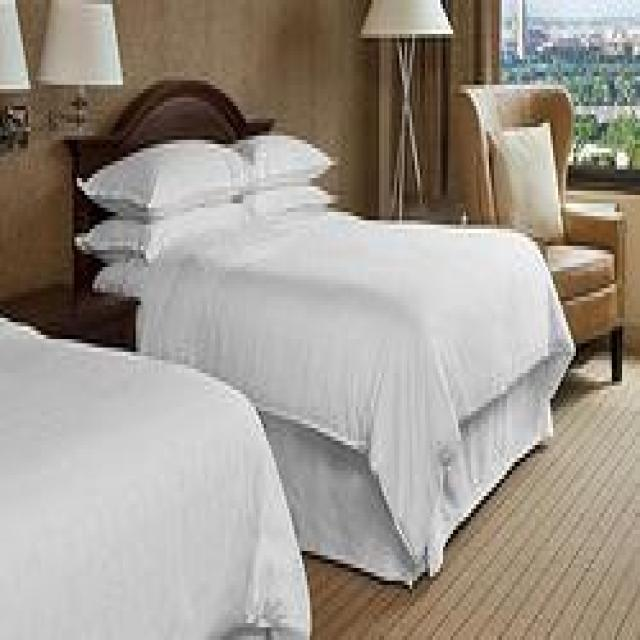bed: (61, 76, 576, 589)
